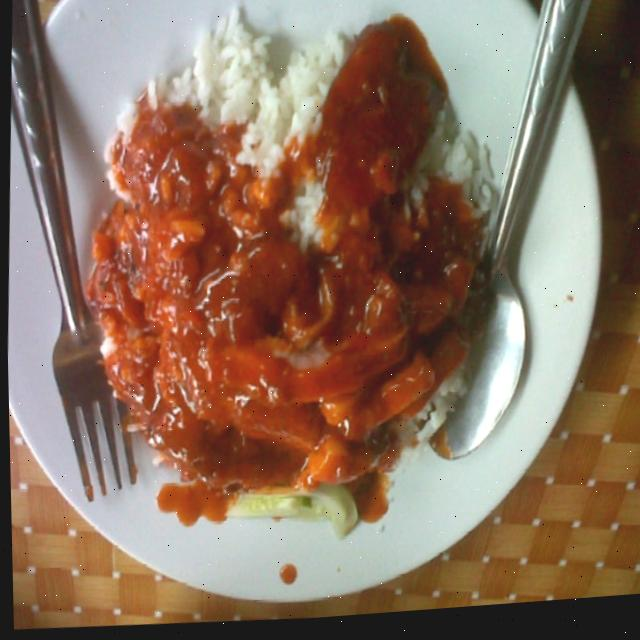猪肉菜式: (69, 4, 491, 550)
